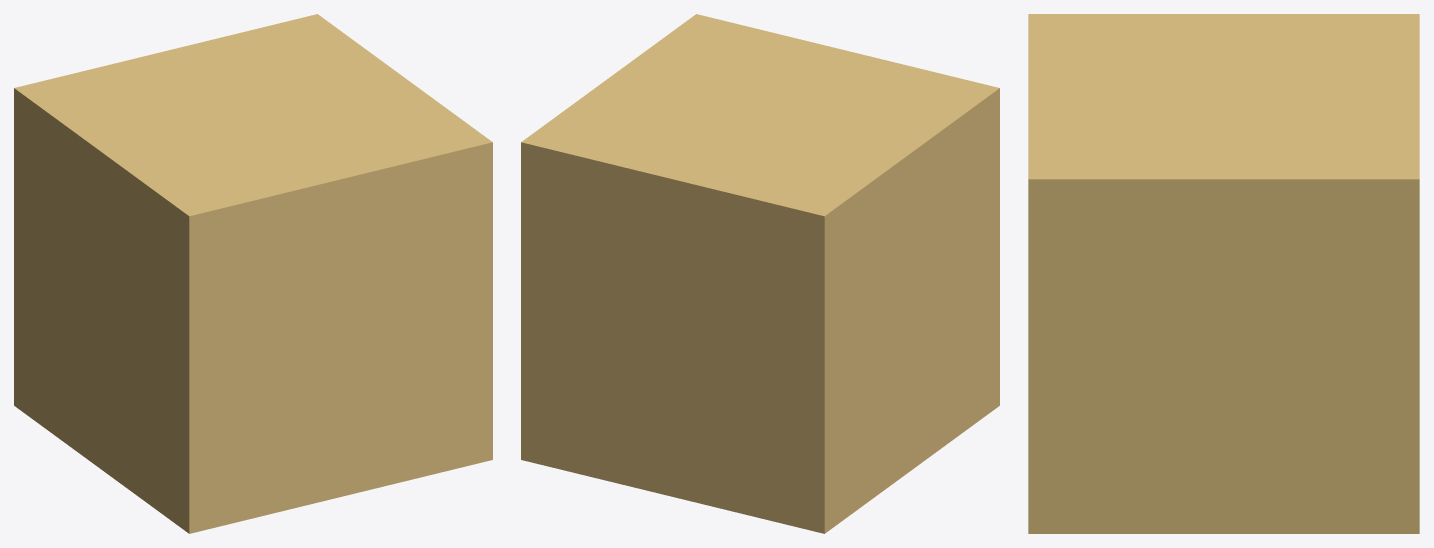
File: gltf_test.gltf
3 renders of one model, left to right at view 1: azimuth 30°, elevation 25°; view 2: azimuth 150°, elevation 25°; view 3: azimuth 270°, elevation 25°, orthographic. The views are drawn at different scales.
Visible parts, largest first — view 1: Cube; view 2: Cube; view 3: Cube.
Boxes of the visible parts, x1,y1,x2,y2 form: Cube: (14, 14, 492, 533); Cube: (521, 14, 999, 533); Cube: (1028, 14, 1419, 533).
Bounding box in the file's own units: 2 × 2 × 2.
